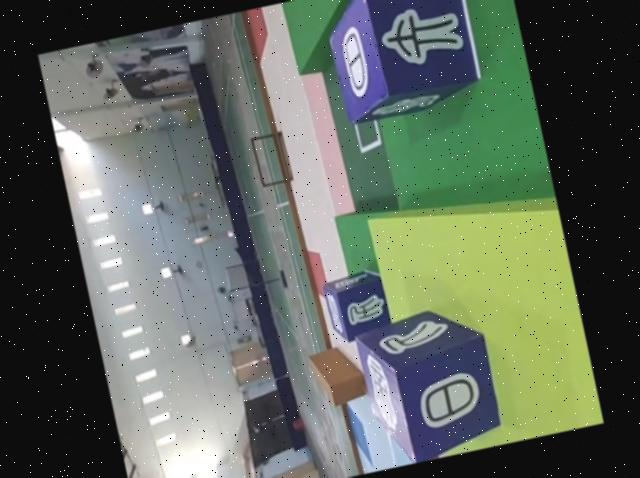R2 Fake Blue: (353, 301, 509, 470), (318, 0, 490, 127), (320, 265, 396, 344)
